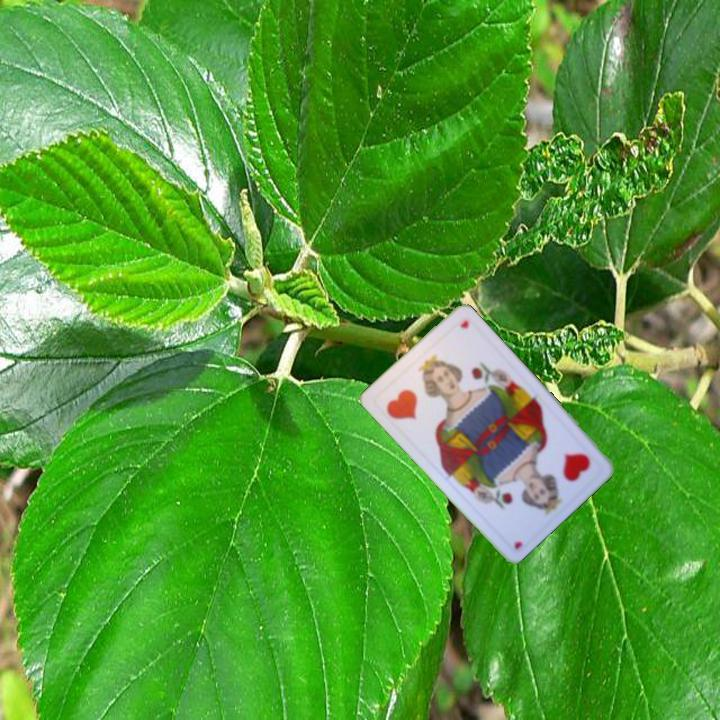h_q.png: (519, 426, 605, 511), (370, 355, 456, 440)
